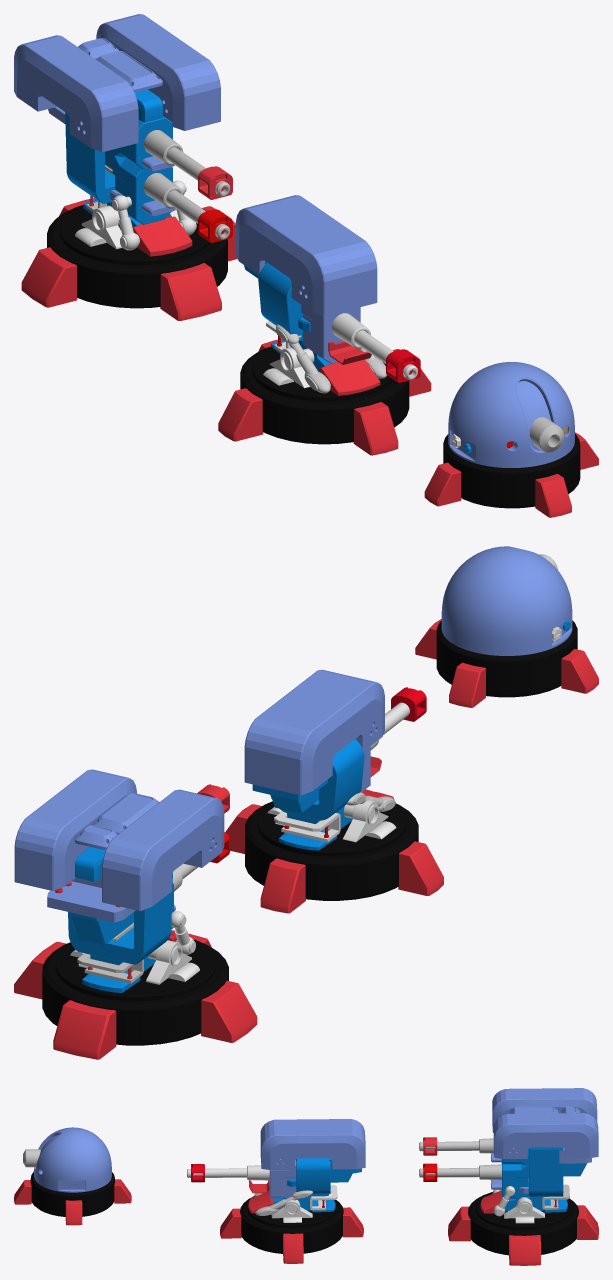
File: Main - Torret Water.fbx
The picture shows the model from 3 angles, top to bottom: view 1: azimuth 30°, elevation 25°; view 2: azimuth 150°, elevation 25°; view 3: azimuth 270°, elevation 25°; orthographic projection. The views are drawn at different scales.
Visible parts, largest first — view 1: Cube.017, Cube.025, Cylinder.022, Cylinder.073, Cube.002, Cylinder.001; view 2: Cube.017, Cube.025, Cylinder.022, Cylinder.073, Cube.002, Cylinder.001; view 3: Cube.017, Cube.025, Cylinder.022, Cylinder.073, Cube.002, Cylinder.001.
Part boxes in pixels (bbox=[...]): Cube.017: bbox=[14, 14, 232, 256]; Cube.025: bbox=[236, 195, 420, 395]; Cylinder.022: bbox=[21, 198, 237, 320]; Cylinder.073: bbox=[218, 339, 431, 455]; Cube.002: bbox=[448, 362, 574, 467]; Cylinder.001: bbox=[424, 432, 598, 517]; Cube.017: bbox=[14, 769, 229, 992]; Cube.025: bbox=[244, 669, 426, 850]; Cylinder.022: bbox=[14, 930, 257, 1059]; Cylinder.073: bbox=[225, 792, 443, 913]; Cube.002: bbox=[441, 546, 572, 655]; Cylinder.001: bbox=[415, 619, 598, 707]; Cube.017: bbox=[419, 1088, 598, 1223]; Cube.025: bbox=[187, 1119, 365, 1222]; Cylinder.022: bbox=[448, 1192, 598, 1265]; Cylinder.073: bbox=[220, 1196, 363, 1263]; Cube.002: bbox=[23, 1127, 111, 1192]; Cylinder.001: bbox=[14, 1171, 131, 1225].
Size of the model in its own units: 555 by 516 by 2151.
